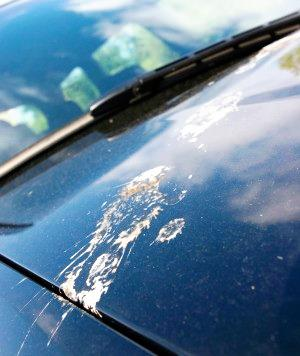Bird Poop: (61, 166, 169, 313), (16, 288, 86, 355), (181, 92, 241, 142), (152, 219, 184, 243), (279, 45, 299, 74)
